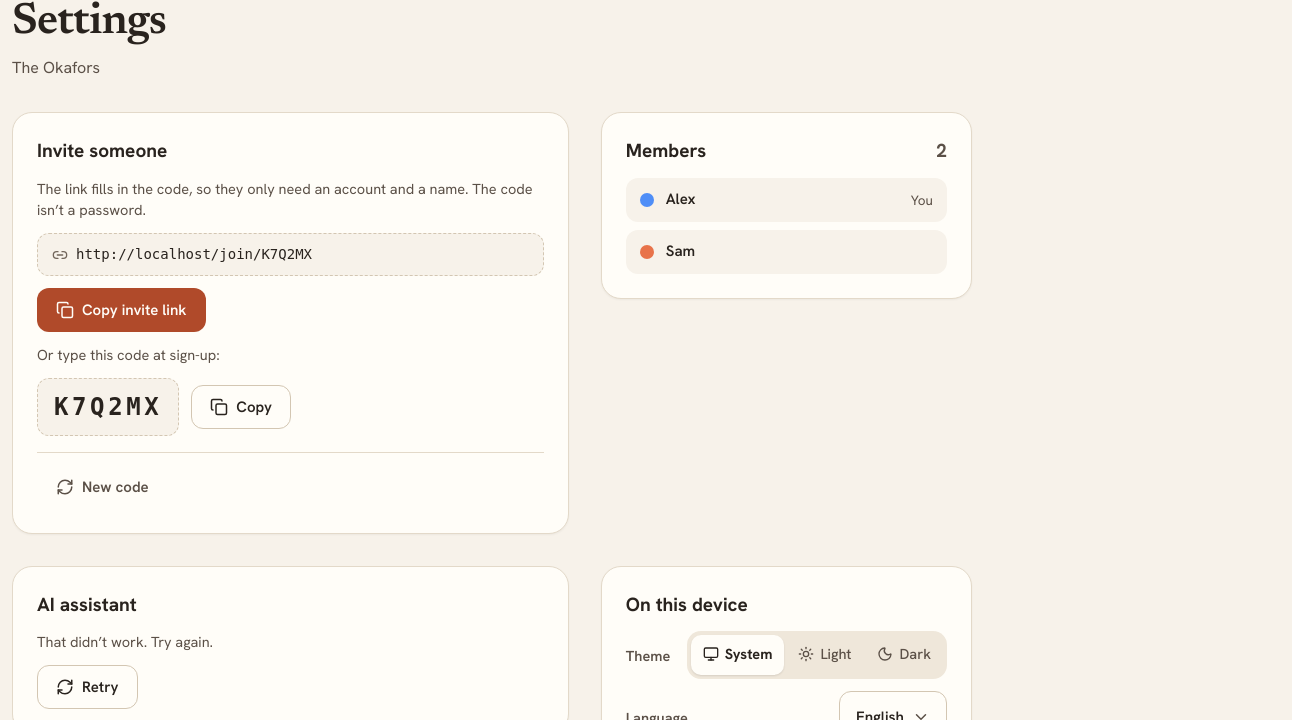
Scenario: when the status is not known › says it could not tell, with Retry and no Add, then shows the right layout after Retry
The width and height of the screenshot is (1292, 720).
Click the button "Retry": (87, 687) [37,665,138,709]
(page scrolled)
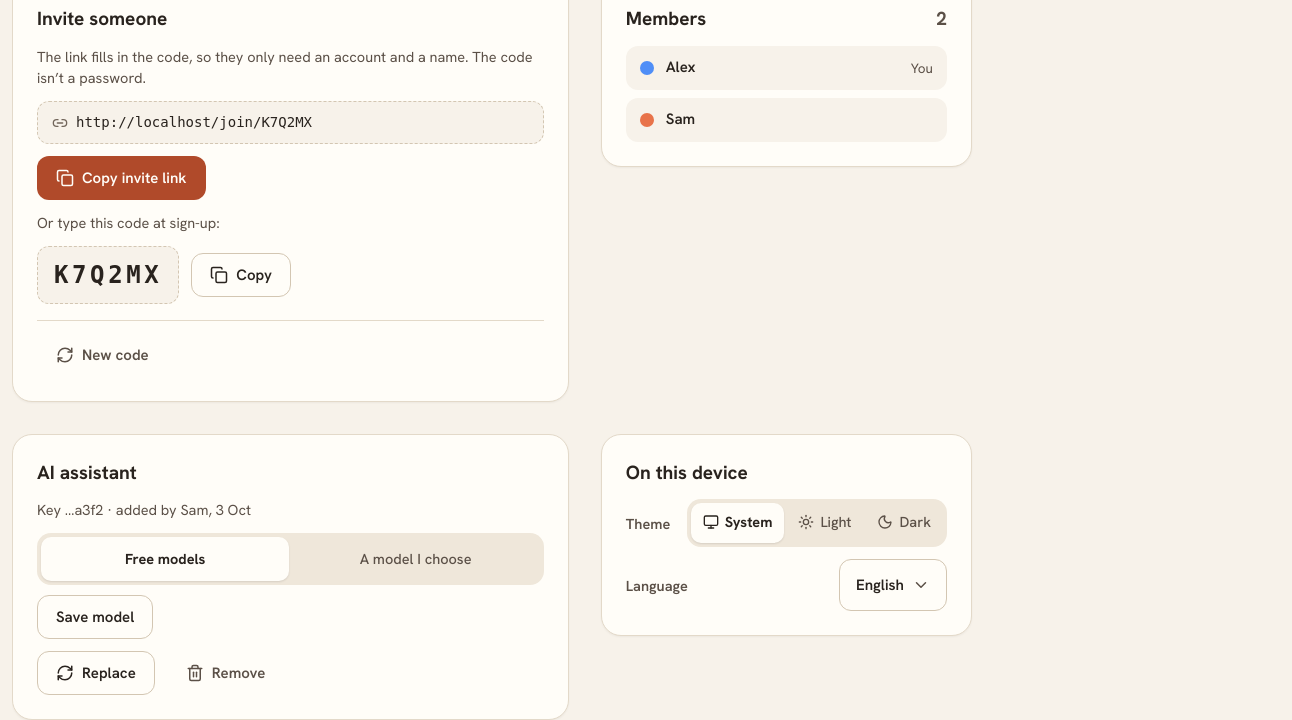
Now the element that starts with "AI assistant" shows "Key …a3f2", box [37,500,251,519]
Now the text "That didn’t work. Try again." is gone
